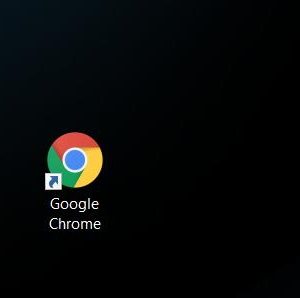chrome: (44, 132, 103, 190)
